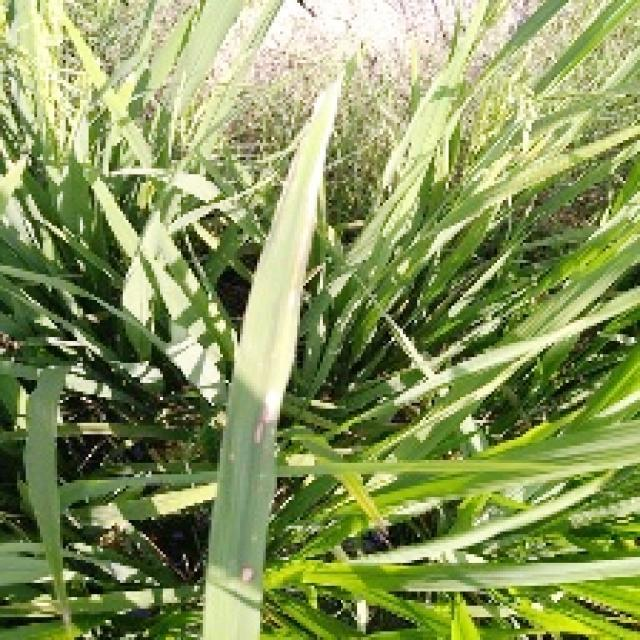health: (250, 381, 640, 640)
